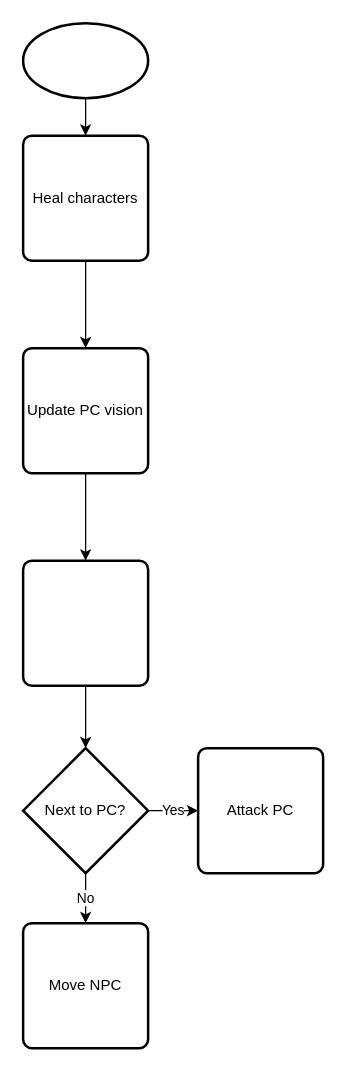
Image size: 345x1070. Some labels were removed from this diagram. Here are the shapes that lost their labels. From the top down, the centre of each, then its label:
At (x=85, y=60): "Update turn".
At (x=85, y=622): "Try to move NPCs".
